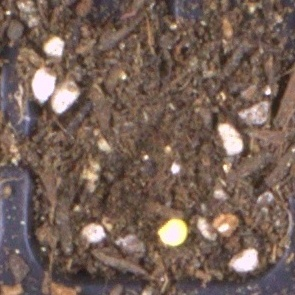chilli seed: (157, 218, 188, 247)
